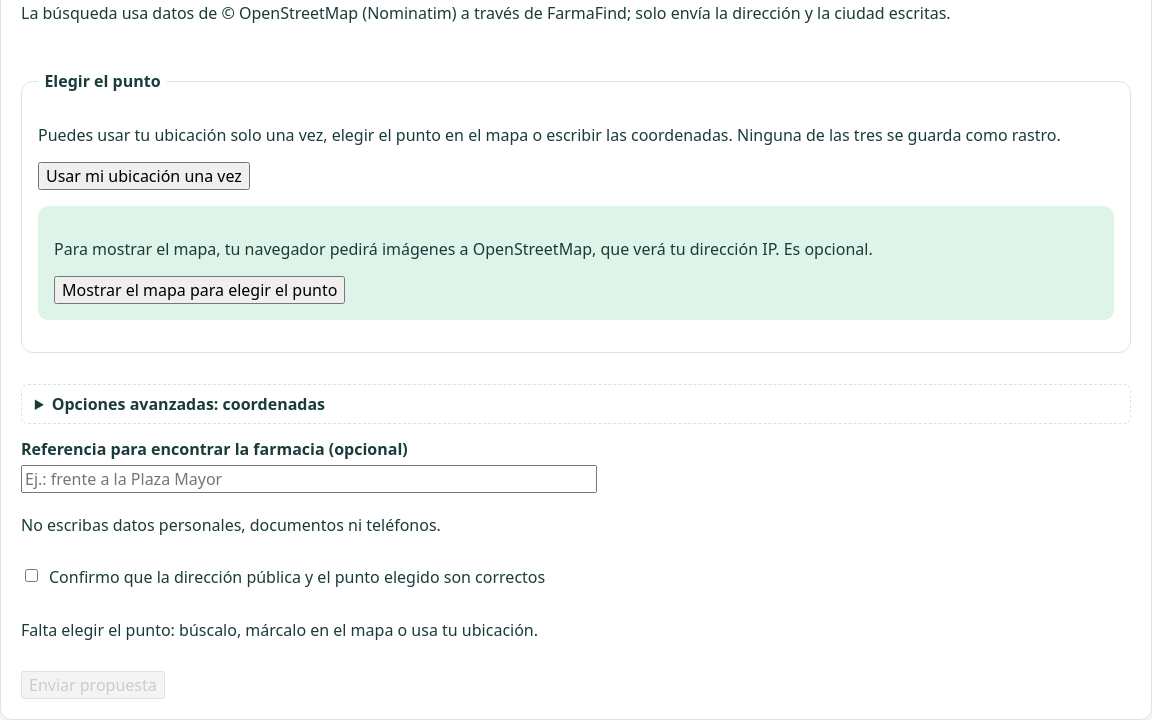
Test: F07.1 · estado, historial y límites (FR-004, FR-006) › bloquea el envío con coordenadas fuera del Perú
(page scrolled)
Replace the text in the number field named "Latitud" with "40.4" at (576, 404), box left=21, top=384, right=1131, bottom=424
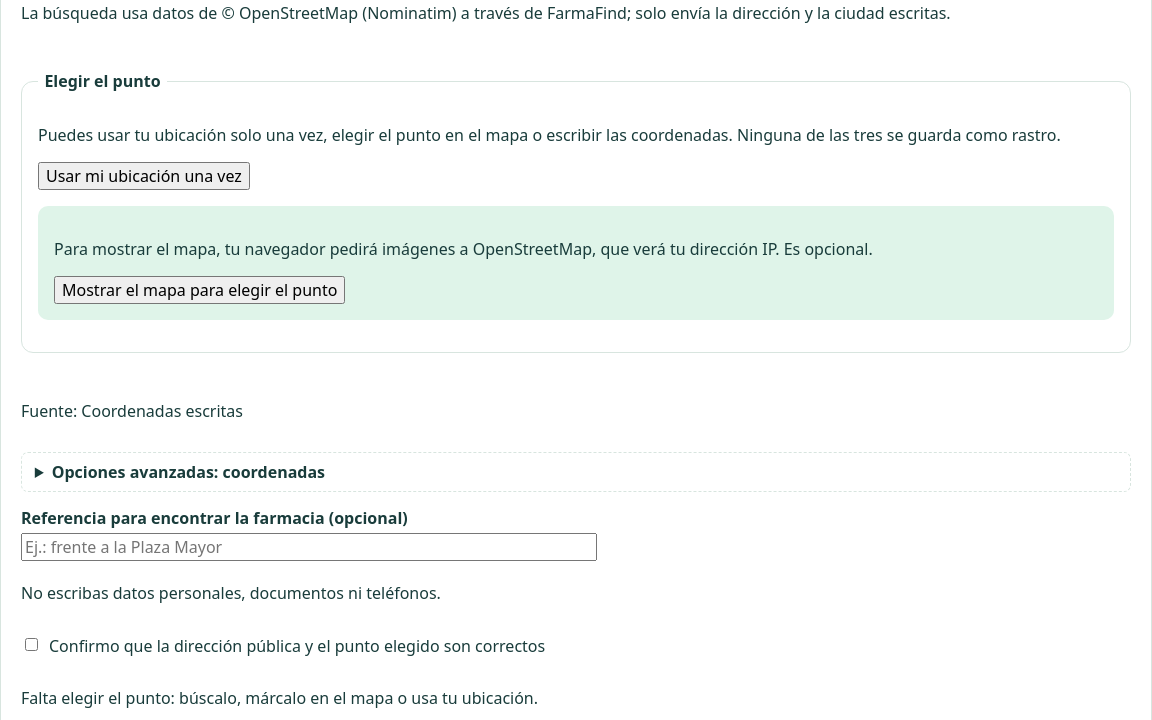
Replace the text in the number field named "Longitud" with "-3.7" at (576, 472), box left=21, top=452, right=1131, bottom=492
(page scrolled)
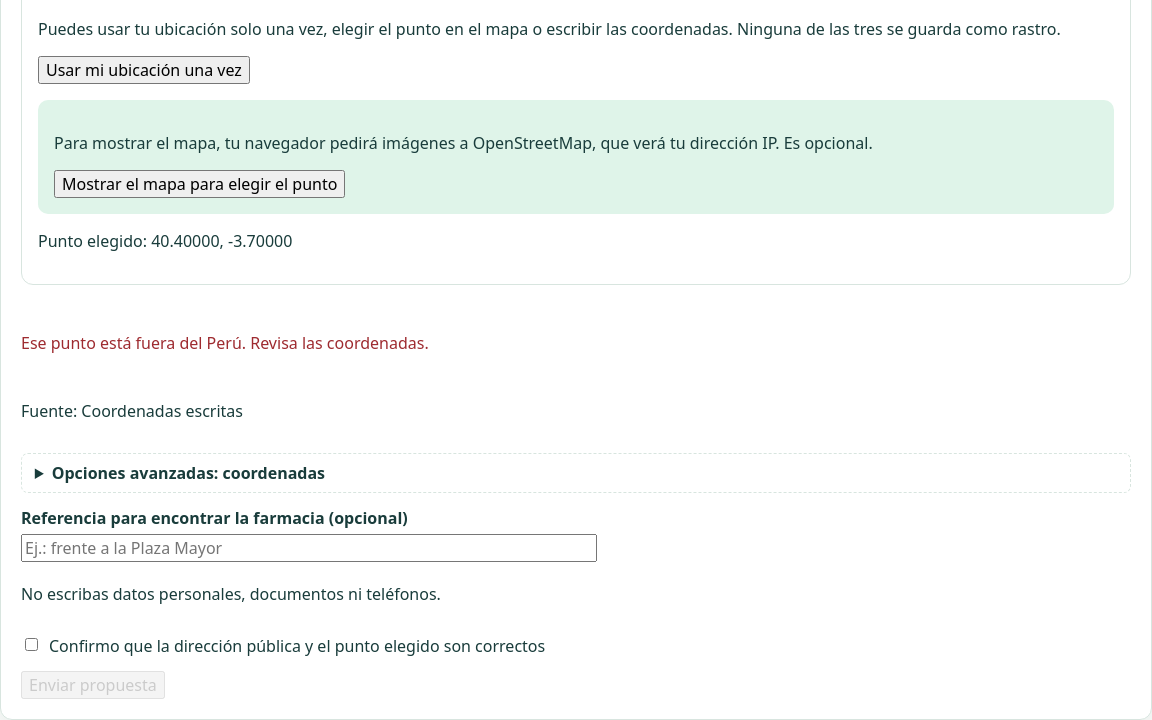
expect the button "Enviar propuesta" is disabled: met, box left=21, top=671, right=165, bottom=699
expect the message "Ese punto está fuera del Perú. Revisa las coordenadas." is shown: met, box left=21, top=332, right=429, bottom=354
